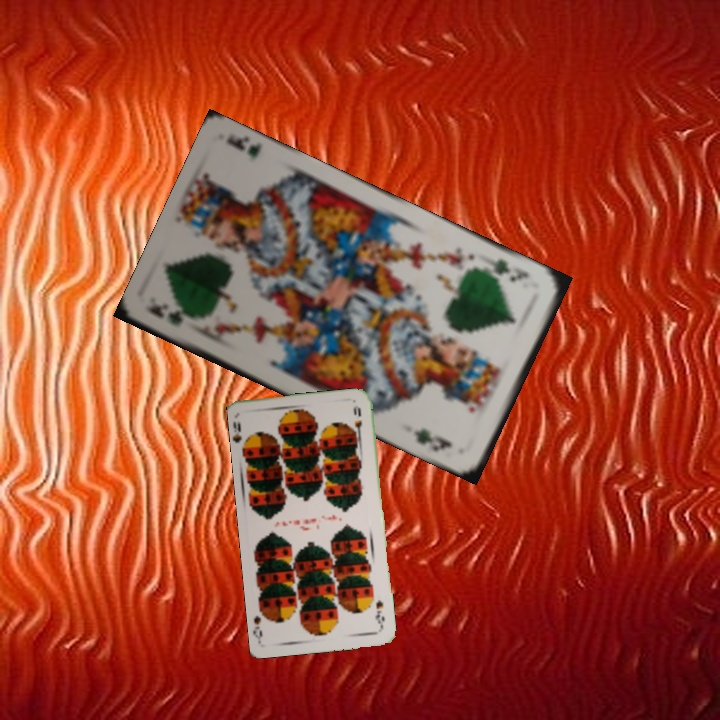GK: (144, 301, 201, 329), (483, 255, 532, 285)
S9: (231, 417, 253, 454), (371, 596, 387, 631)
